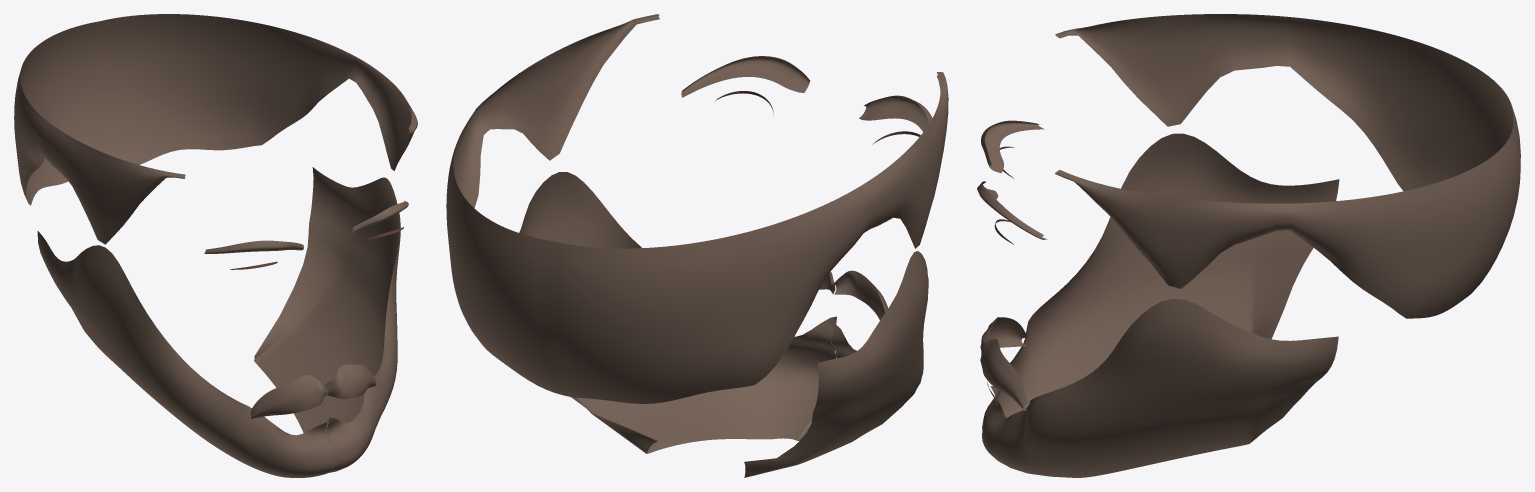
The model's file is KeeperHairFoundation.gltf.
3 renders of one model, left to right at view 1: azimuth 30°, elevation 25°; view 2: azimuth 150°, elevation 25°; view 3: azimuth 270°, elevation 25°, orthographic. The views are drawn at different scales.
Parts seen in each view (by area): view 1: KeeperHairFoundation; view 2: KeeperHairFoundation; view 3: KeeperHairFoundation.
Boxes of the visible parts, left/top/right/bottom form: KeeperHairFoundation: left=14, top=14, right=417, bottom=477; KeeperHairFoundation: left=446, top=14, right=948, bottom=477; KeeperHairFoundation: left=977, top=14, right=1520, bottom=477.
Size of the model in its own units: 0.1636 by 0.1564 by 0.2079.
